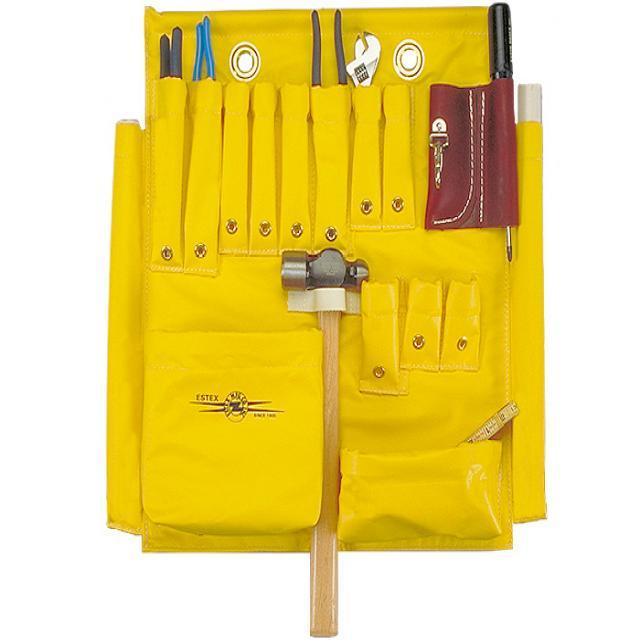hammer: (273, 238, 376, 636)
